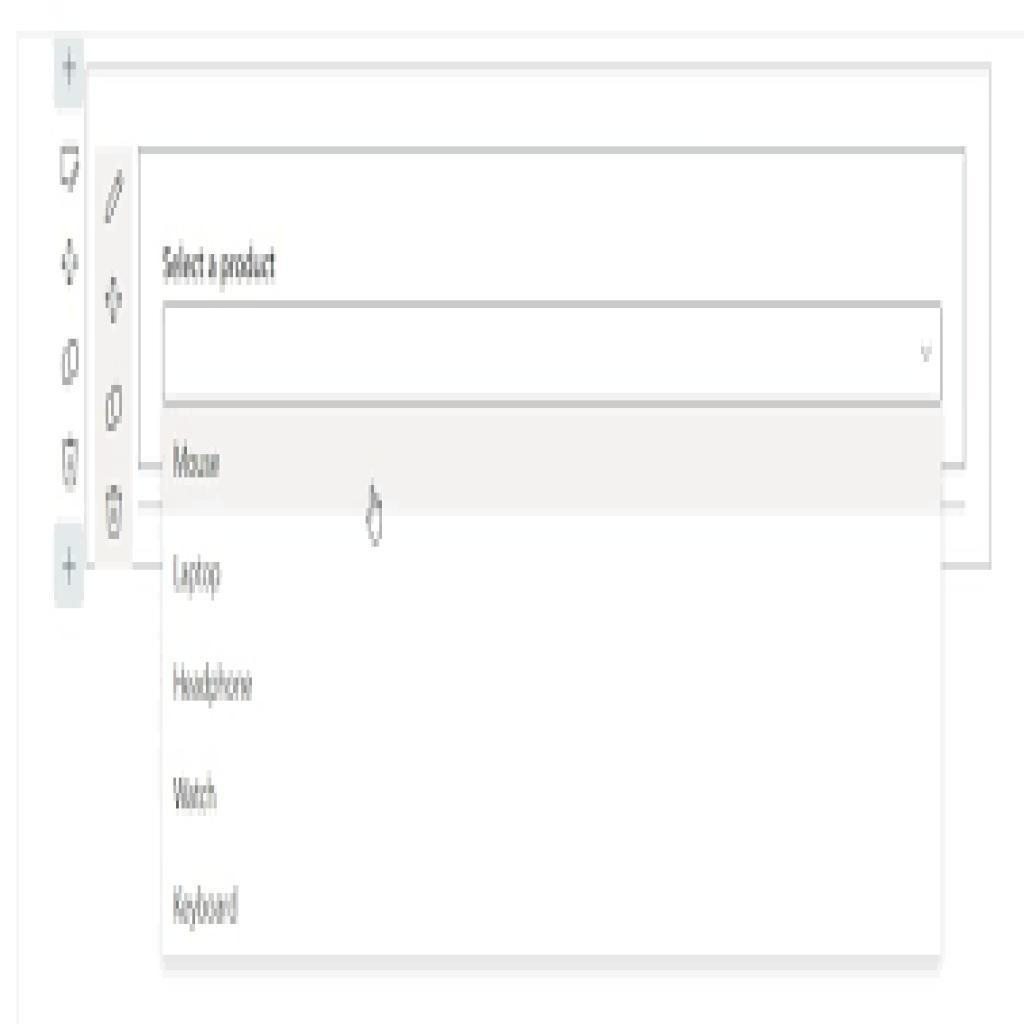dropdown: (158, 297, 948, 407)
icon: (100, 480, 128, 549), (54, 333, 84, 394), (100, 273, 129, 330), (100, 170, 128, 227), (56, 143, 82, 199), (59, 434, 81, 498), (59, 540, 84, 596), (57, 44, 84, 92), (59, 234, 82, 290), (103, 383, 126, 435)
